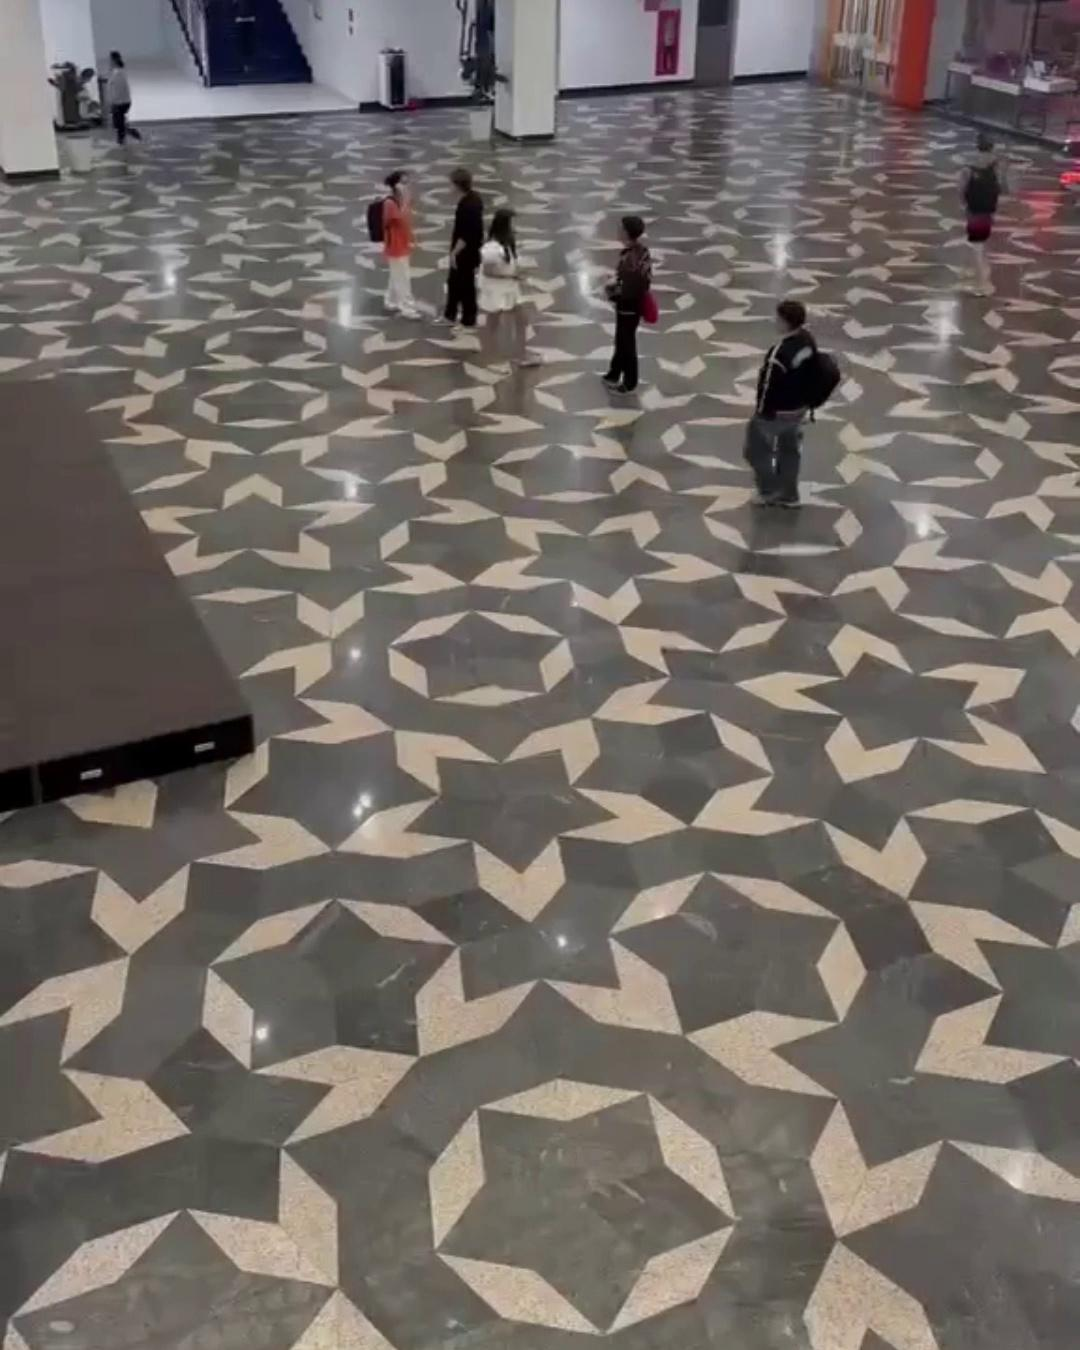your_class: (753, 281, 852, 528), (447, 203, 564, 396), (603, 193, 684, 406), (925, 110, 1022, 279), (415, 148, 492, 335), (343, 148, 424, 320), (420, 130, 486, 327), (83, 37, 150, 180)
